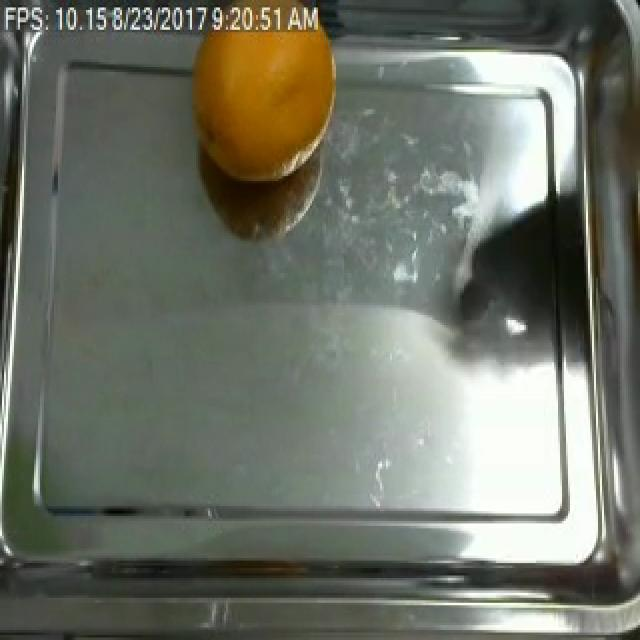Fruit: (186, 7, 348, 191)
